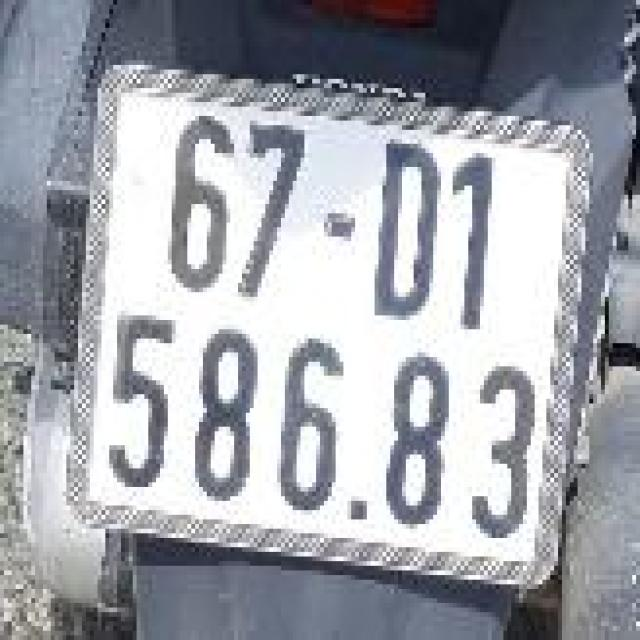1: (441, 145, 499, 340)
3: (462, 354, 538, 550)
5: (101, 300, 180, 499)
6: (161, 106, 241, 304), (273, 326, 348, 523)
7: (227, 115, 313, 310)
8: (189, 312, 263, 513), (380, 345, 454, 539)
D: (366, 130, 447, 332)
